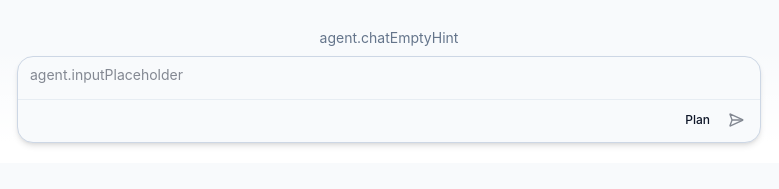
Test: ChatStream running state › moves highlight with ArrowDown and selects the second item on Enter
The width and height of the screenshot is (779, 189).
Type "@sr" into the text box with placeholder "agent.inputPlaceholder" at (389, 75), box [18,57,760,93]
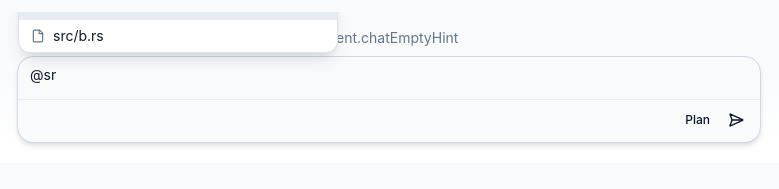
# ↓ 移动高亮到第二项 → Enter 选中 src/b.rs
Press ArrowDown in the text box with placeholder "agent.inputPlaceholder", box [18,57,760,93]
Press Enter in the text box with placeholder "agent.inputPlaceholder", box [18,57,760,93]
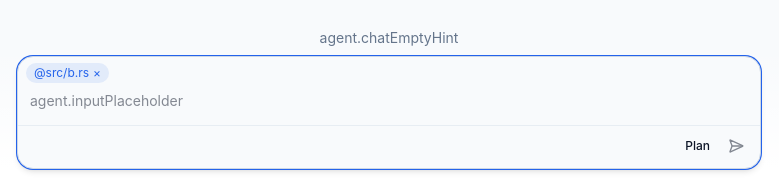
Result: the text "@src/b.rs" is shown at [26,63,109,83]
Result: the text box with placeholder "agent.inputPlaceholder" is empty at [18,83,760,119]
